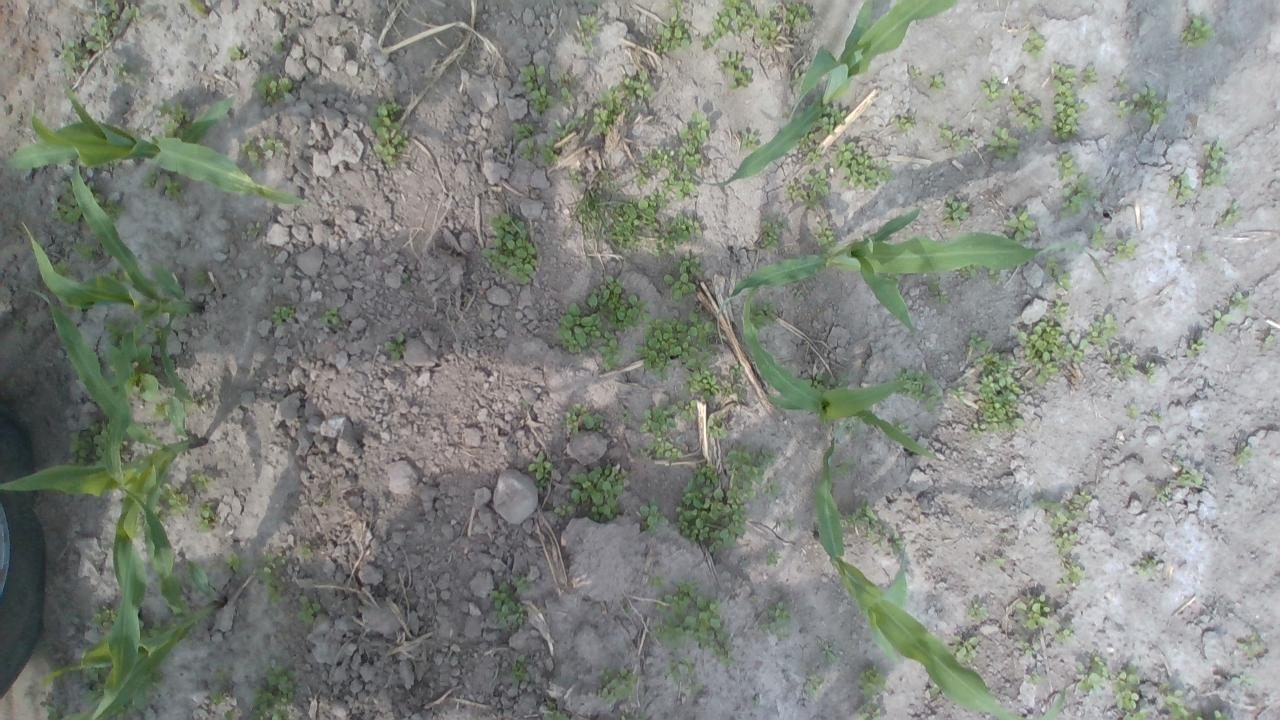Maize: (0, 282, 209, 720), (809, 420, 1067, 720), (714, 208, 1108, 347), (698, 0, 962, 188), (18, 157, 202, 401), (43, 488, 227, 720), (0, 85, 323, 206), (740, 287, 946, 463)
Weeds: (649, 574, 736, 666), (674, 462, 752, 552), (635, 309, 721, 381), (574, 168, 640, 256), (968, 351, 1028, 438), (481, 210, 536, 284), (568, 462, 628, 523), (1015, 315, 1062, 386), (589, 274, 647, 330), (106, 342, 160, 402), (1050, 62, 1088, 140), (836, 140, 894, 190), (247, 663, 297, 720), (370, 96, 410, 167), (110, 671, 166, 720), (726, 442, 775, 498), (554, 302, 600, 356), (1034, 488, 1090, 531), (650, 210, 702, 256), (891, 368, 944, 413), (488, 576, 530, 626), (597, 658, 640, 706), (66, 419, 108, 468), (1058, 172, 1102, 218), (1155, 680, 1205, 720), (662, 253, 706, 298), (519, 64, 556, 115), (86, 0, 120, 52), (840, 498, 880, 540), (258, 550, 288, 606), (1113, 658, 1145, 710), (86, 180, 125, 222), (712, 0, 755, 37), (1008, 87, 1044, 131), (664, 655, 703, 695), (654, 16, 692, 57), (152, 480, 188, 523), (152, 392, 207, 420), (50, 179, 82, 226), (1072, 655, 1110, 694), (1132, 85, 1170, 124), (1201, 140, 1231, 189), (560, 403, 606, 434), (1014, 593, 1052, 630), (598, 82, 634, 120), (156, 100, 192, 138), (1180, 14, 1218, 48), (59, 37, 90, 78), (253, 70, 290, 104), (81, 664, 114, 702), (801, 167, 830, 210), (936, 122, 972, 156), (661, 166, 698, 199), (684, 368, 722, 400), (638, 190, 668, 230), (986, 126, 1020, 161), (719, 50, 750, 88), (638, 404, 676, 435), (1004, 206, 1036, 242), (596, 331, 624, 372), (752, 8, 782, 46), (646, 434, 684, 464), (760, 600, 790, 638), (856, 664, 889, 697), (640, 496, 669, 533), (622, 68, 654, 101), (940, 196, 972, 228), (813, 105, 847, 135), (680, 110, 710, 144), (1088, 311, 1117, 346), (528, 450, 552, 492), (1045, 255, 1072, 291), (748, 298, 778, 330), (978, 70, 1002, 110), (814, 216, 837, 255), (951, 633, 980, 663), (382, 330, 411, 360), (1238, 630, 1267, 660), (1173, 458, 1204, 486), (1022, 26, 1046, 62), (872, 525, 902, 553), (102, 314, 130, 344), (759, 217, 786, 248), (1052, 148, 1078, 180), (1064, 329, 1088, 363), (1109, 350, 1138, 378), (70, 236, 100, 263), (194, 500, 218, 533), (1170, 172, 1194, 205), (1056, 560, 1084, 588), (925, 274, 950, 304), (786, 0, 811, 30), (90, 604, 118, 630), (644, 145, 674, 169), (1216, 202, 1246, 226), (137, 618, 169, 640), (296, 596, 321, 624), (801, 669, 824, 699), (543, 698, 574, 720), (510, 651, 530, 685), (268, 303, 300, 324), (1086, 221, 1108, 250), (540, 136, 561, 166), (103, 265, 133, 286), (966, 596, 990, 622), (677, 143, 701, 169), (1108, 98, 1132, 124), (1112, 235, 1136, 260), (854, 699, 882, 720), (829, 458, 858, 478), (242, 138, 260, 170), (705, 415, 728, 440), (968, 332, 994, 354), (592, 108, 612, 136), (1132, 556, 1156, 579), (576, 14, 601, 36), (1212, 307, 1232, 334), (511, 122, 535, 144), (1226, 289, 1248, 313), (320, 304, 346, 324), (190, 472, 216, 492), (142, 163, 162, 189), (1148, 482, 1172, 503), (556, 67, 580, 88), (51, 258, 76, 278), (892, 112, 917, 132), (226, 552, 248, 574), (1185, 336, 1207, 358), (1055, 533, 1078, 554), (1054, 620, 1074, 644), (804, 372, 828, 392), (678, 398, 698, 422), (1228, 670, 1258, 686), (1018, 639, 1044, 657), (111, 62, 137, 80), (1232, 442, 1254, 463), (210, 664, 233, 684), (1082, 62, 1099, 88), (164, 173, 182, 197), (926, 73, 946, 94), (552, 118, 574, 137), (958, 260, 984, 276), (43, 702, 66, 720), (821, 640, 838, 664), (262, 132, 284, 150), (740, 131, 760, 150), (784, 180, 801, 201), (122, 5, 143, 22), (298, 538, 315, 559), (950, 384, 966, 406), (764, 548, 782, 567), (880, 271, 901, 287), (1143, 357, 1157, 381), (1123, 709, 1153, 720), (805, 145, 822, 164), (634, 164, 648, 187), (700, 34, 720, 50), (762, 482, 782, 498), (553, 501, 574, 516), (522, 138, 536, 160), (13, 316, 30, 334), (1124, 402, 1142, 419), (796, 131, 814, 148), (227, 43, 243, 62), (830, 372, 849, 388), (1111, 74, 1128, 91), (246, 222, 264, 238), (192, 268, 208, 286), (848, 416, 861, 438), (135, 507, 144, 538), (621, 711, 651, 720), (1028, 670, 1044, 686), (783, 515, 798, 532), (1259, 333, 1274, 350), (906, 65, 923, 80), (560, 88, 574, 106), (987, 266, 1001, 284), (894, 419, 912, 432), (574, 108, 586, 127), (723, 382, 738, 397), (730, 365, 746, 379), (399, 270, 412, 286), (1213, 708, 1230, 720), (272, 37, 283, 55), (618, 408, 632, 422), (210, 690, 224, 703), (1148, 410, 1162, 423), (666, 0, 686, 9), (930, 681, 942, 695), (633, 446, 648, 457), (789, 68, 799, 84), (782, 108, 794, 120), (620, 604, 632, 616), (794, 289, 805, 302), (992, 557, 1007, 566), (1196, 253, 1210, 262), (518, 397, 530, 407), (119, 436, 128, 449), (224, 709, 234, 720), (583, 40, 593, 51), (741, 270, 751, 280), (740, 559, 748, 565)
